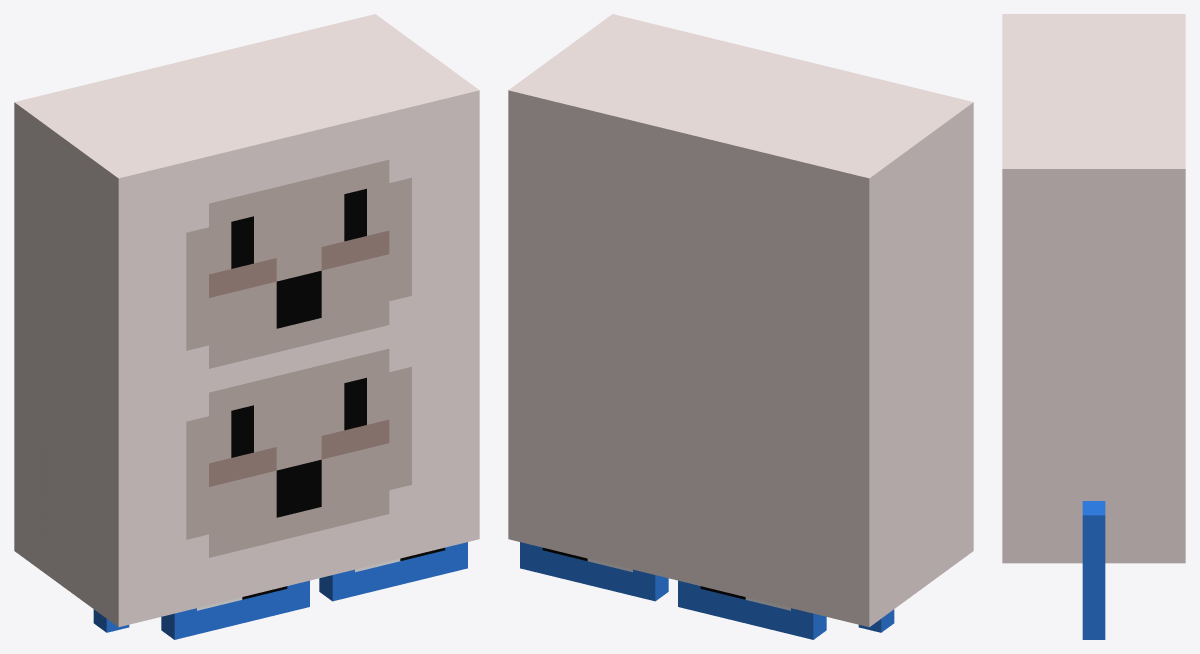
File: outlet.glb
3 views of the same model, side by side, from view 1: azimuth 30°, elevation 25°; view 2: azimuth 150°, elevation 25°; view 3: azimuth 270°, elevation 25° (orthographic). The views are drawn at different scales.
Visible parts, largest first — view 1: base, l2, l4, glasses, l3; view 2: base, glasses; view 3: base, glasses.
Part boxes in pixels (x1,y1,x2,y2): base: (14, 14, 479, 627); l2: (186, 159, 411, 557); l4: (231, 188, 366, 517); glasses: (93, 542, 467, 639); l3: (209, 230, 389, 486); base: (508, 14, 973, 627); glasses: (520, 542, 894, 639); base: (1002, 14, 1185, 563); glasses: (1082, 501, 1105, 639).
Bounding box in the file's own units: 17.5 × 22 × 8.
Materials: 8 (8 with a texture image).
